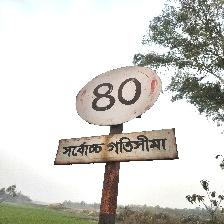Speed-limit: (56, 64, 176, 165)
